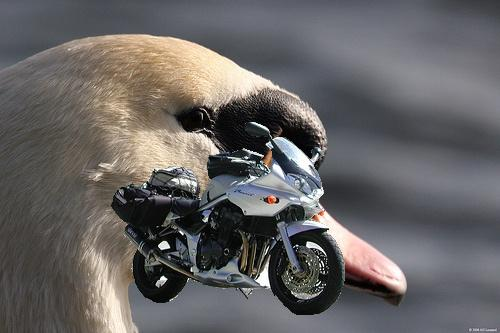tampered: (112, 123, 345, 315)
